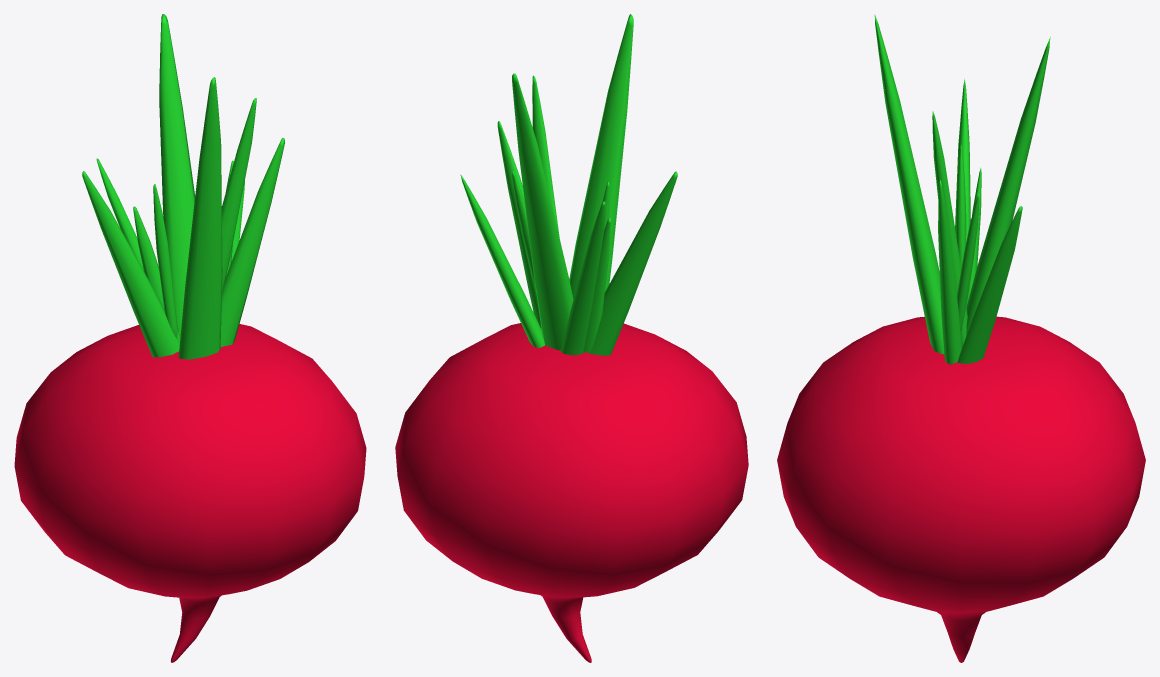
The model's file is Beetroot.fbx.
The picture shows the model from 3 angles, left to right: view 1: azimuth 30°, elevation 25°; view 2: azimuth 150°, elevation 25°; view 3: azimuth 270°, elevation 25°; orthographic projection. The views are drawn at different scales.
Parts seen in each view (by area): view 1: Beetroot; view 2: Beetroot; view 3: Beetroot.
Part boxes in pixels (x1,y1,x2,y2): Beetroot: (14, 14, 366, 662); Beetroot: (395, 14, 748, 662); Beetroot: (777, 14, 1145, 662).
Bounding box in the file's own units: 123 × 238 × 123.
